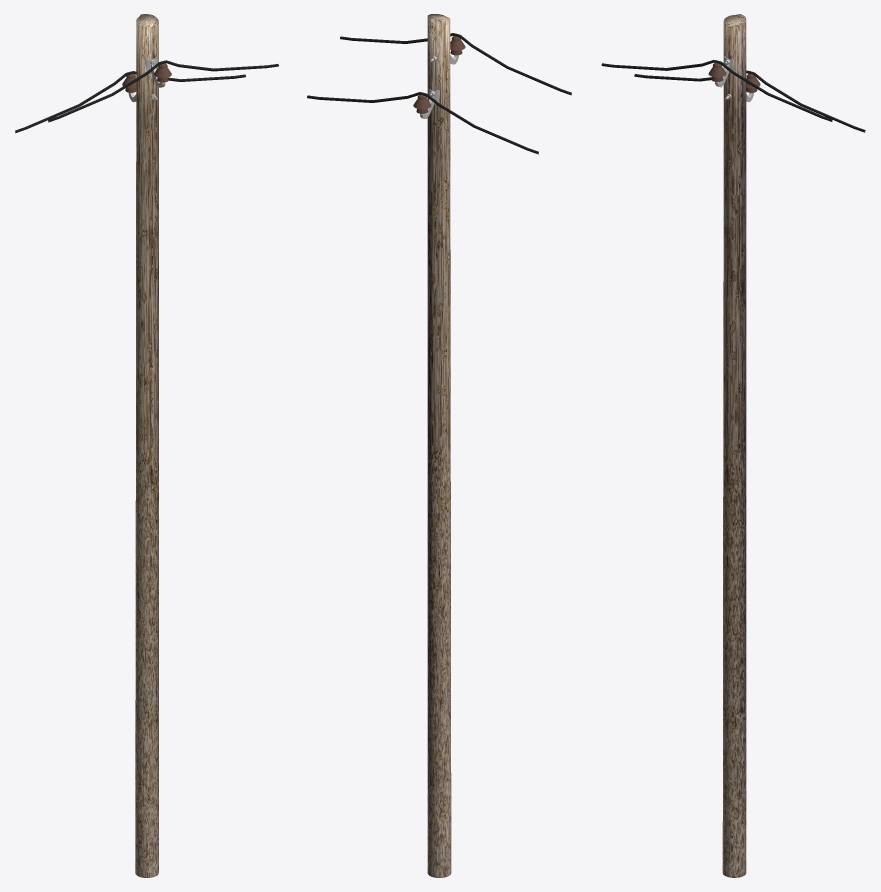
Rendered from poteau-en-bois.glb.
The picture shows the model from 3 angles, left to right: view 1: azimuth 30°, elevation 25°; view 2: azimuth 150°, elevation 25°; view 3: azimuth 330°, elevation 25°; orthographic projection.
Size of the model in its own units: 340 by 1202 by 107.
4 materials, 1 textured.
